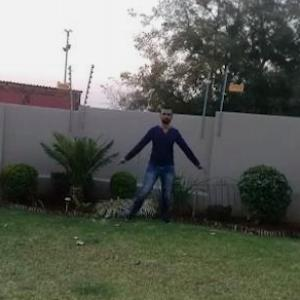land: (109, 102, 203, 227)
